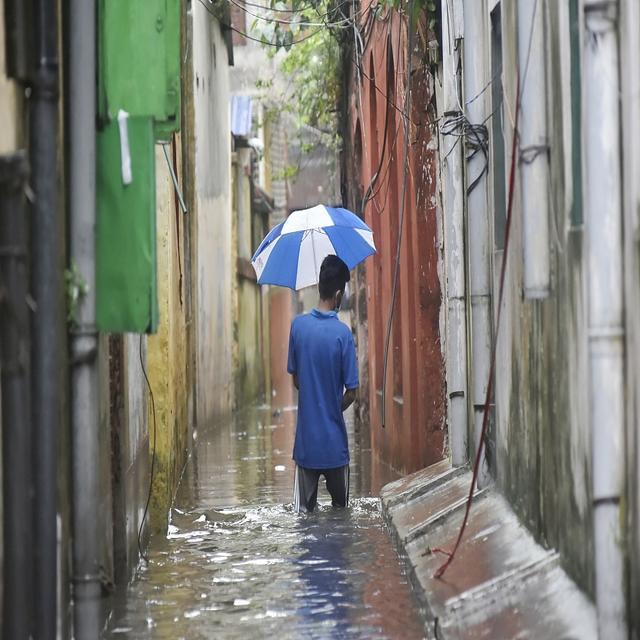Person-RiskLevel2: (278, 255, 368, 513)
